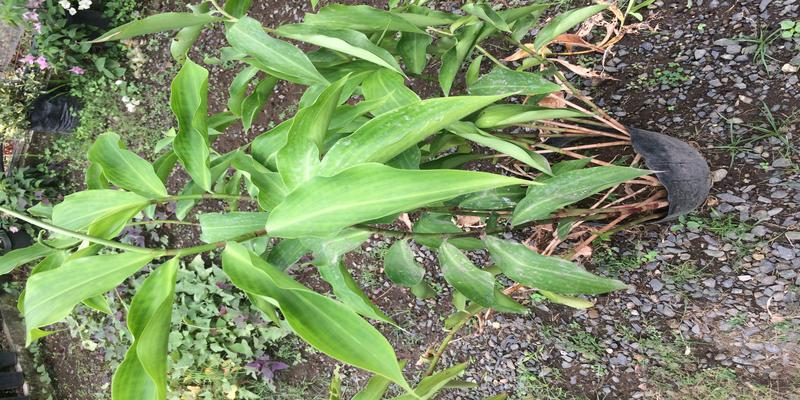Insulin: (102, 30, 626, 289)
